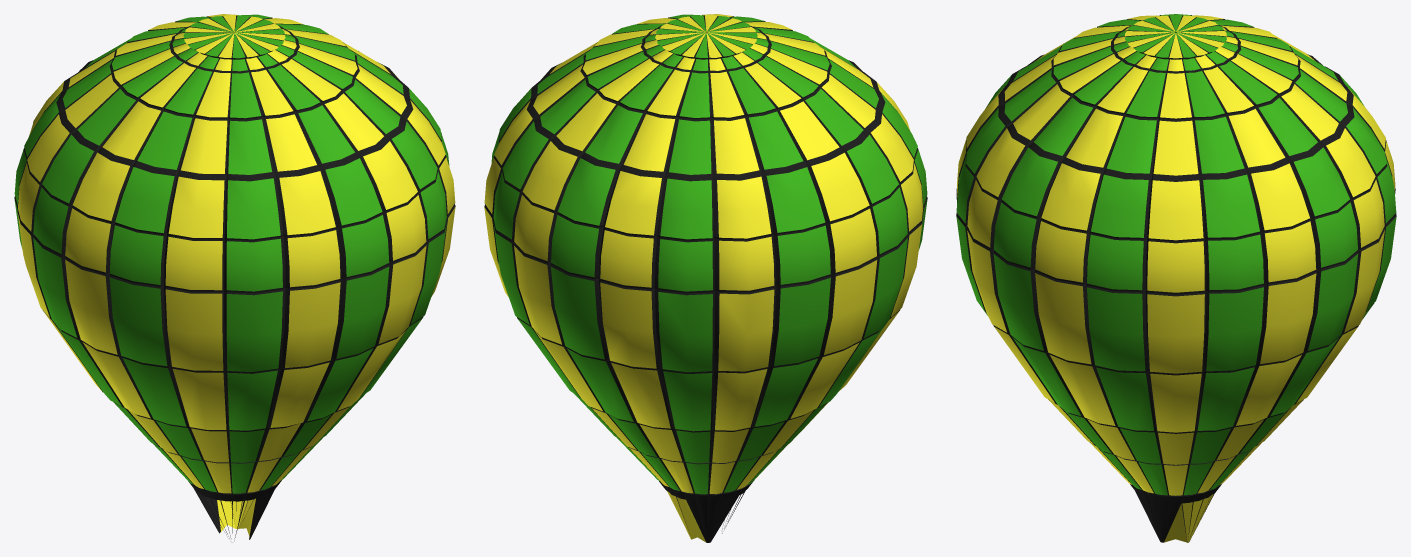
File: Balloon.fbx
The picture shows the model from 3 angles, left to right: view 1: azimuth 30°, elevation 25°; view 2: azimuth 150°, elevation 25°; view 3: azimuth 270°, elevation 25°; orthographic projection.
Parts seen in each view (by area): view 1: balao; view 2: balao; view 3: balao.
Boxes of the visible parts, left/top/right/bottom form: balao: left=14, top=14, right=455, bottom=540; balao: left=484, top=14, right=927, bottom=542; balao: left=956, top=14, right=1396, bottom=542.
Bounding box in the file's own units: 335 × 421 × 332.
